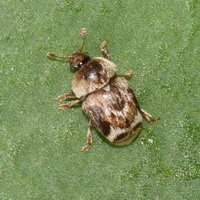insect: (47, 28, 159, 150)
